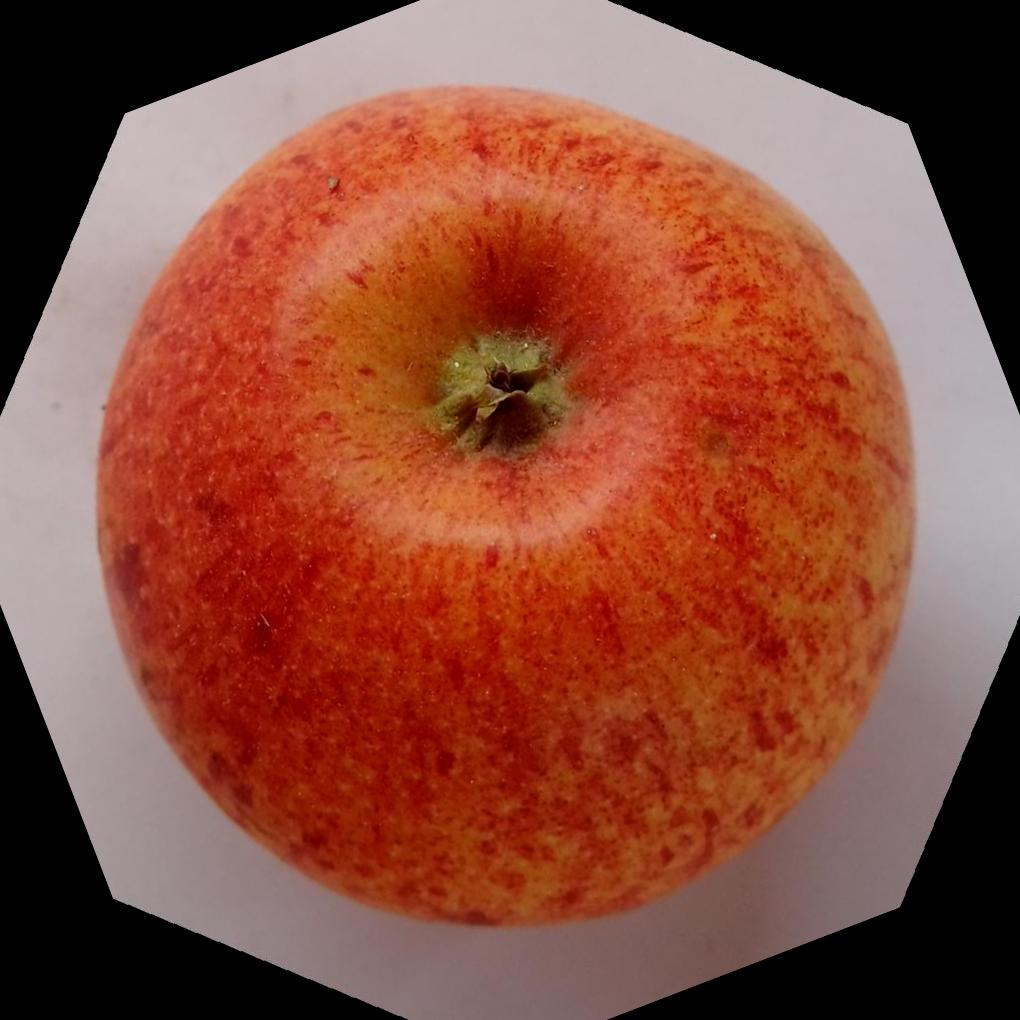FreshGuava: (95, 79, 924, 931)
